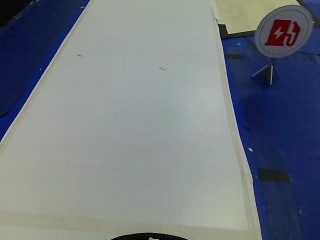battery: (255, 6, 308, 61)
